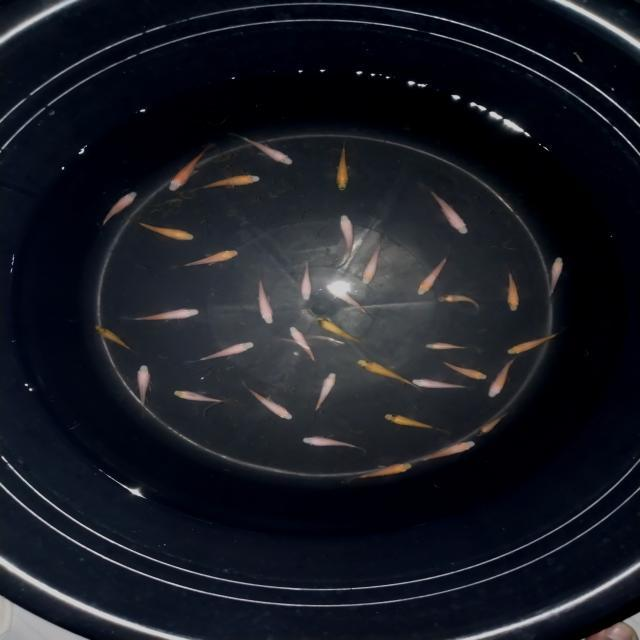nila: (167, 142, 220, 196), (227, 127, 298, 167), (422, 182, 472, 238), (238, 377, 298, 422), (352, 356, 424, 392), (97, 184, 145, 234), (412, 248, 459, 298), (501, 326, 575, 356), (170, 244, 242, 274), (183, 340, 262, 365), (381, 409, 452, 436), (123, 219, 202, 243), (124, 305, 206, 328), (321, 280, 373, 316), (415, 438, 480, 466), (312, 315, 370, 345), (346, 460, 418, 484), (187, 172, 262, 195), (292, 432, 376, 452), (90, 321, 136, 356), (310, 368, 342, 418), (283, 324, 321, 364), (252, 270, 278, 328), (434, 357, 492, 382), (362, 231, 387, 289), (496, 264, 524, 315), (332, 137, 356, 196), (486, 357, 518, 400), (128, 361, 153, 415), (434, 290, 482, 318), (170, 386, 227, 408), (476, 407, 514, 438), (544, 252, 566, 304), (334, 212, 354, 267), (404, 377, 474, 392), (296, 258, 315, 304), (421, 339, 474, 355)
